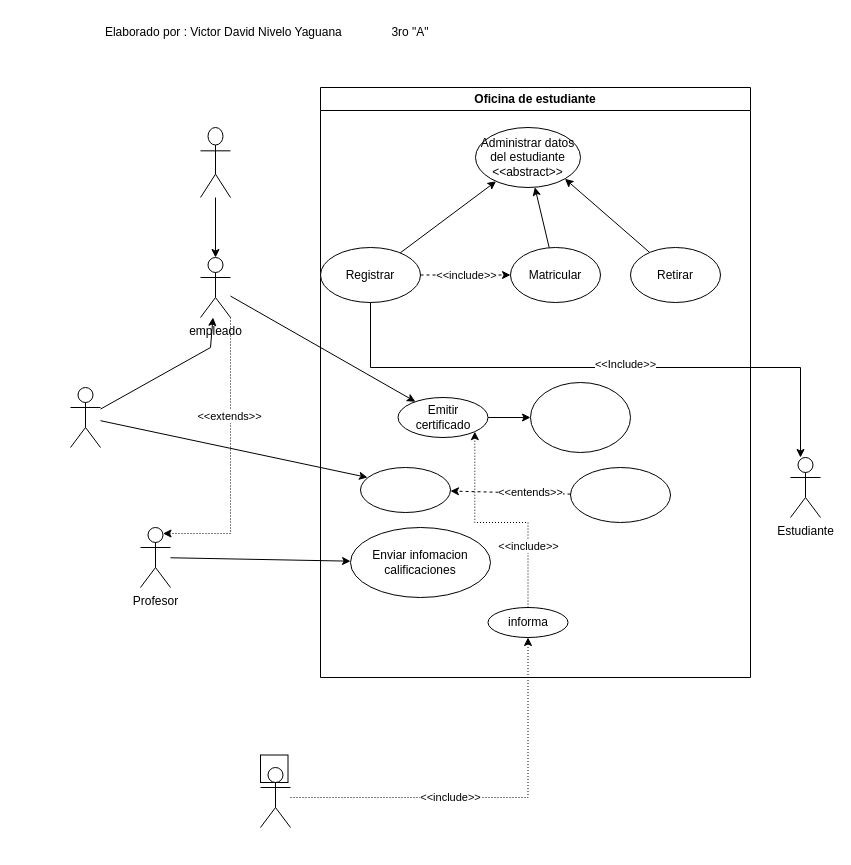
The diagram is 851 pixels wide and 865 high, and some of its shapes have lost their labels. The shapes that lost their labels are listed below. From the top down, each one's centre as x and y in pixels, then its label:
At (215,162): "empleado de servicio".
At (85,417): "Empleado adminisitracion".
At (580,417): "Emite informacion estudiante".
At (405,489): "Crea Curso".
At (620,494): "Reservar sala conferencia".
At (275,797): "Sistema notificacion".
